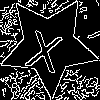X: (24, 20, 67, 74)
